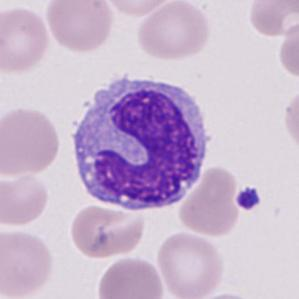Lymphocyte: (64, 68, 218, 217)
Platelets: (234, 185, 263, 212)
RBC: (67, 198, 148, 262), (154, 229, 227, 299), (176, 164, 242, 238), (134, 0, 212, 62), (0, 104, 64, 179), (0, 226, 56, 299), (44, 0, 116, 54), (0, 3, 52, 77), (95, 254, 166, 299), (0, 169, 51, 229), (246, 0, 298, 39), (276, 18, 299, 79), (280, 85, 299, 157), (101, 0, 177, 18), (186, 290, 260, 299)
